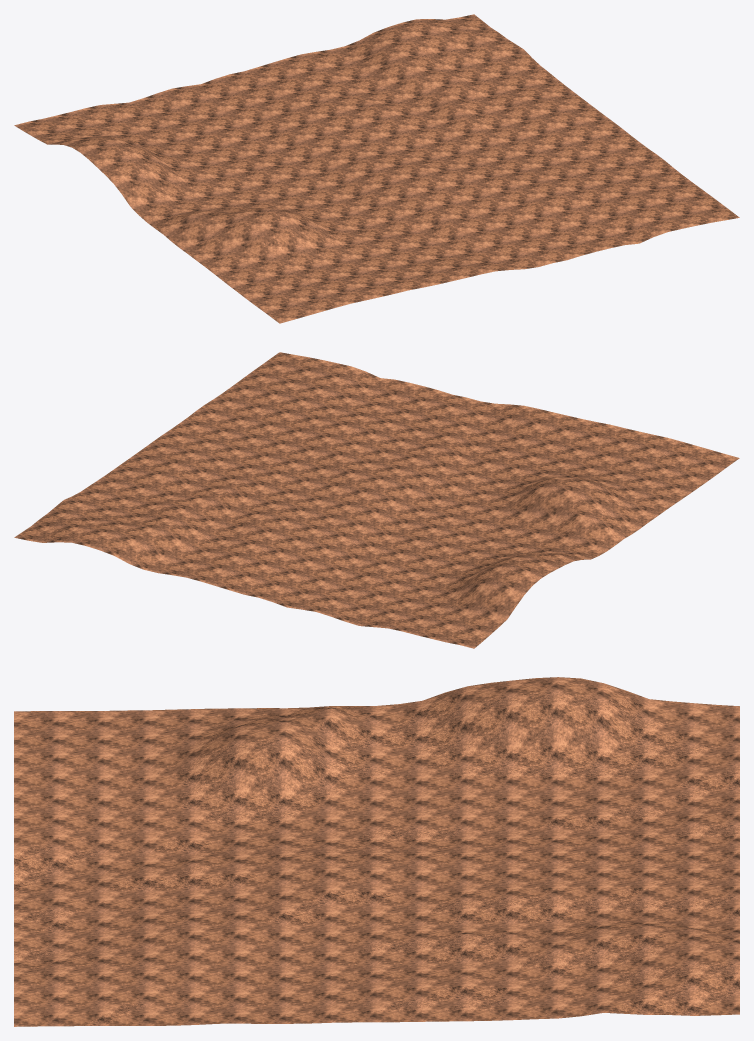
File: terrain_02_02.dae
3 renders of one model, top to bottom at view 1: azimuth 30°, elevation 25°; view 2: azimuth 150°, elevation 25°; view 3: azimuth 270°, elevation 25°, orthographic. The views are drawn at different scales.
Parts seen in each view (by area): view 1: terrain_02_02-node; view 2: terrain_02_02-node; view 3: terrain_02_02-node.
Part boxes in pixels (x1,y1,x2,y2): terrain_02_02-node: (14,14,739,323); terrain_02_02-node: (14,352,739,648); terrain_02_02-node: (14,677,739,1026).
Size of the model in its own units: 128 by 128 by 9.58.
1 material, 1 textured.
